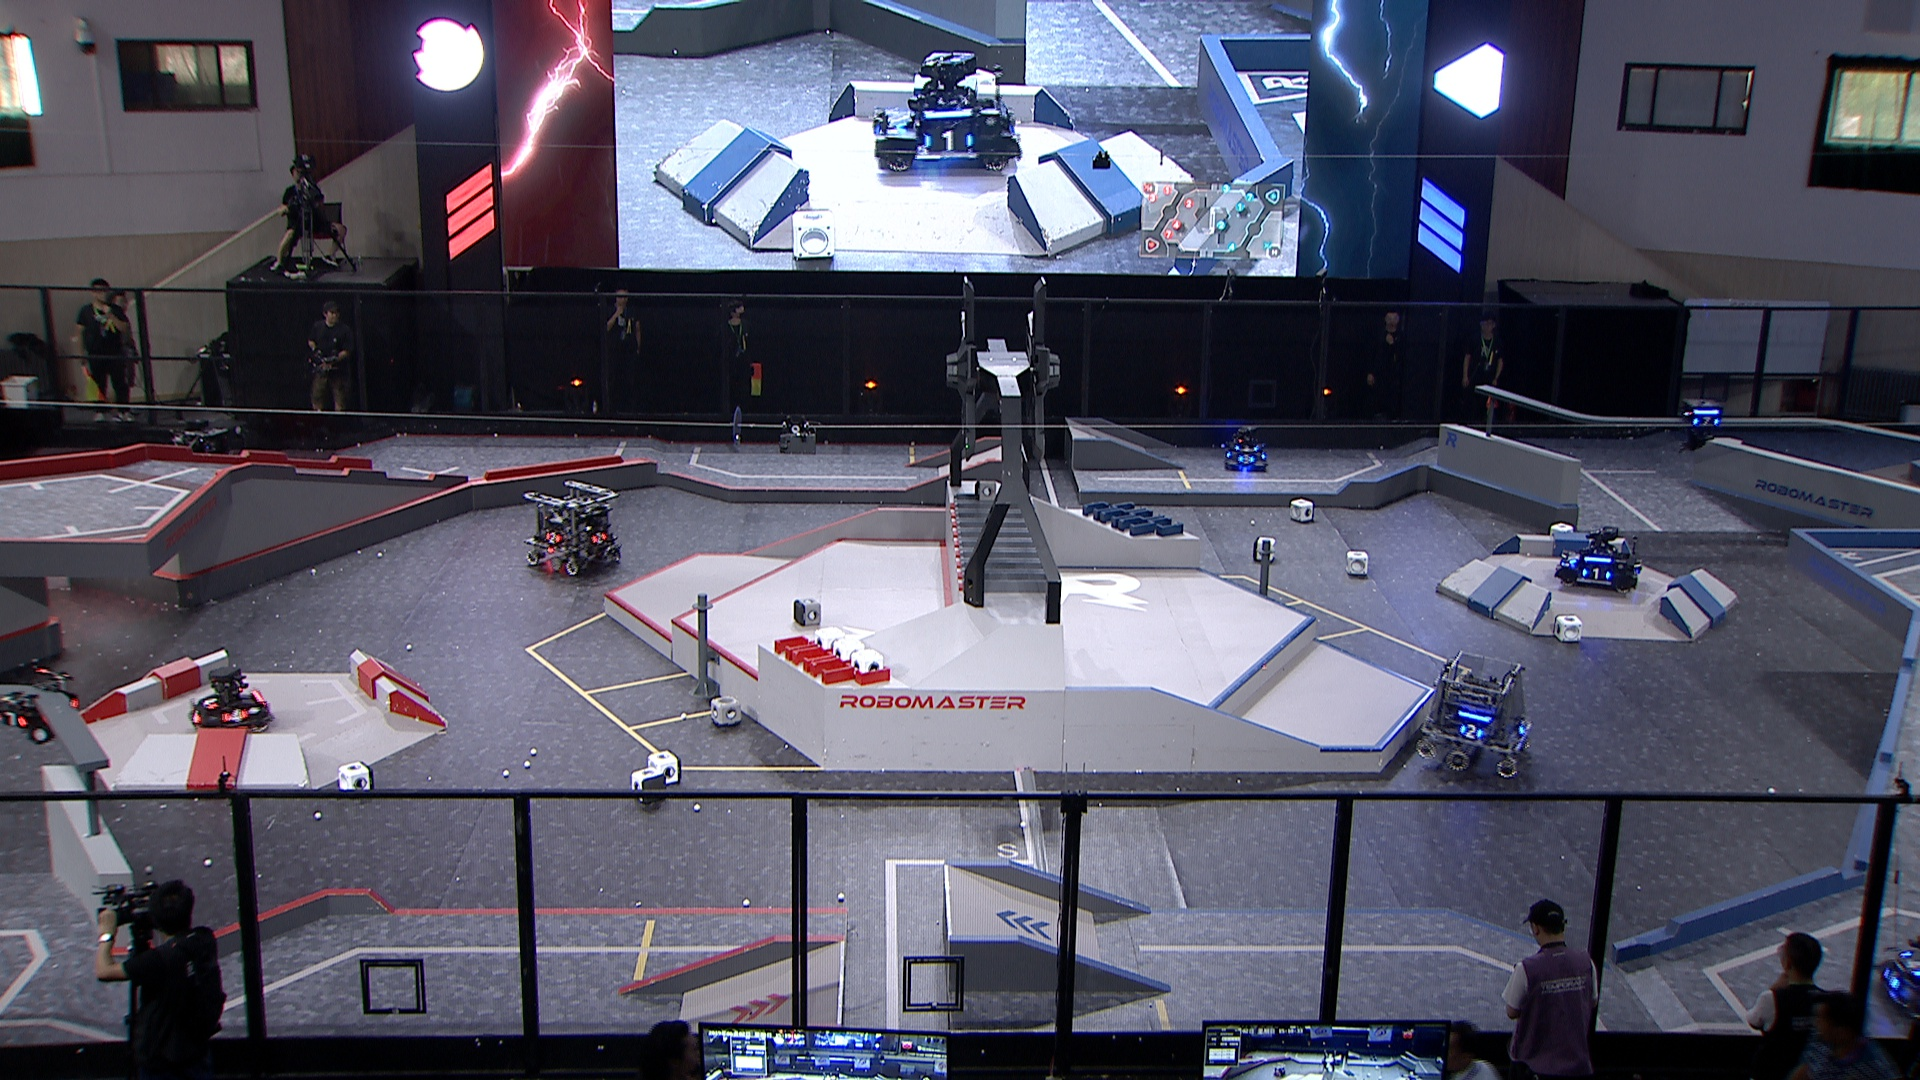armor: (1879, 967, 1904, 993), (223, 705, 249, 725), (1, 709, 29, 728), (1902, 949, 1920, 977), (1581, 566, 1613, 582), (1692, 414, 1721, 429), (1458, 723, 1482, 740), (589, 527, 608, 545), (200, 694, 219, 709), (1232, 442, 1259, 452), (187, 708, 202, 727), (543, 531, 562, 546), (1237, 454, 1255, 467), (1516, 716, 1528, 736), (1565, 551, 1580, 566)
car: (1416, 650, 1534, 778), (518, 475, 622, 579), (1552, 522, 1644, 597), (186, 665, 276, 737), (164, 418, 237, 495), (1871, 920, 1920, 1021), (1221, 429, 1269, 471)
ignore: (869, 51, 1025, 171)
watcher: (1673, 396, 1724, 452)
